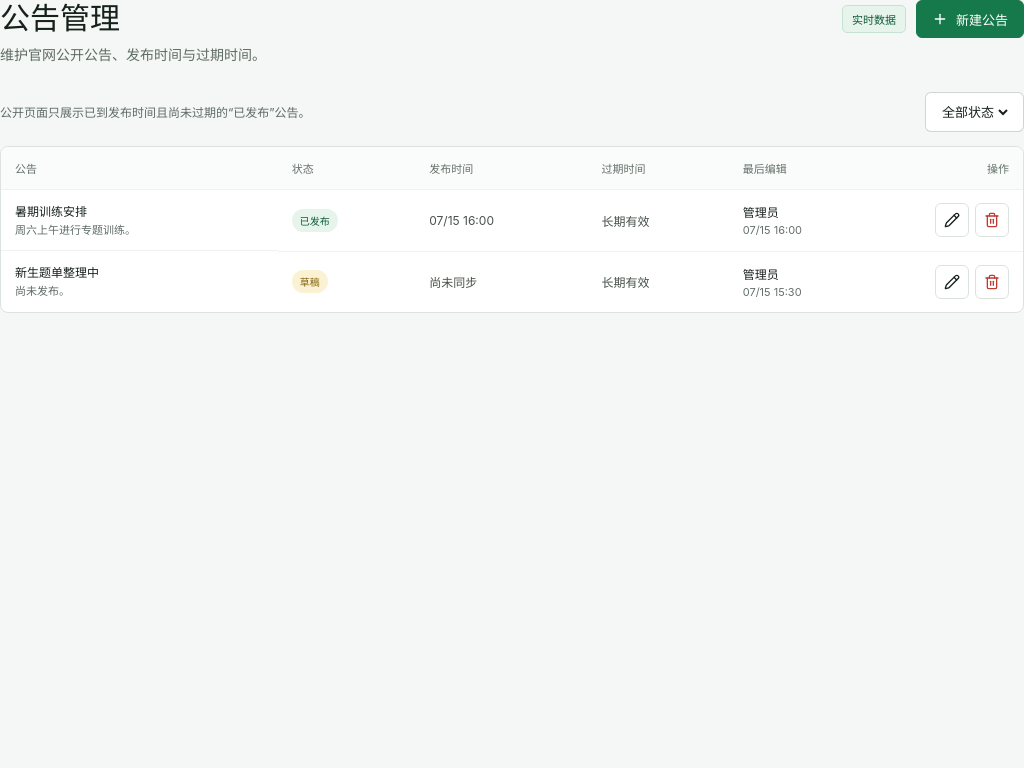
Test: AdminAnnouncementsPage with Supabase configured › confirms deletion before removing an announcement
Check: the row "暑期训练安排 周六上午进行专题训练。 已发布 07/15 16:00 长期有效 管理员 07/15 16:00" is shown, box x1=1 y1=189 x2=1023 y2=251
Click the button named "删除公告 暑期训练安排" at (992, 220), box x1=975 y1=203 x2=1009 y2=237
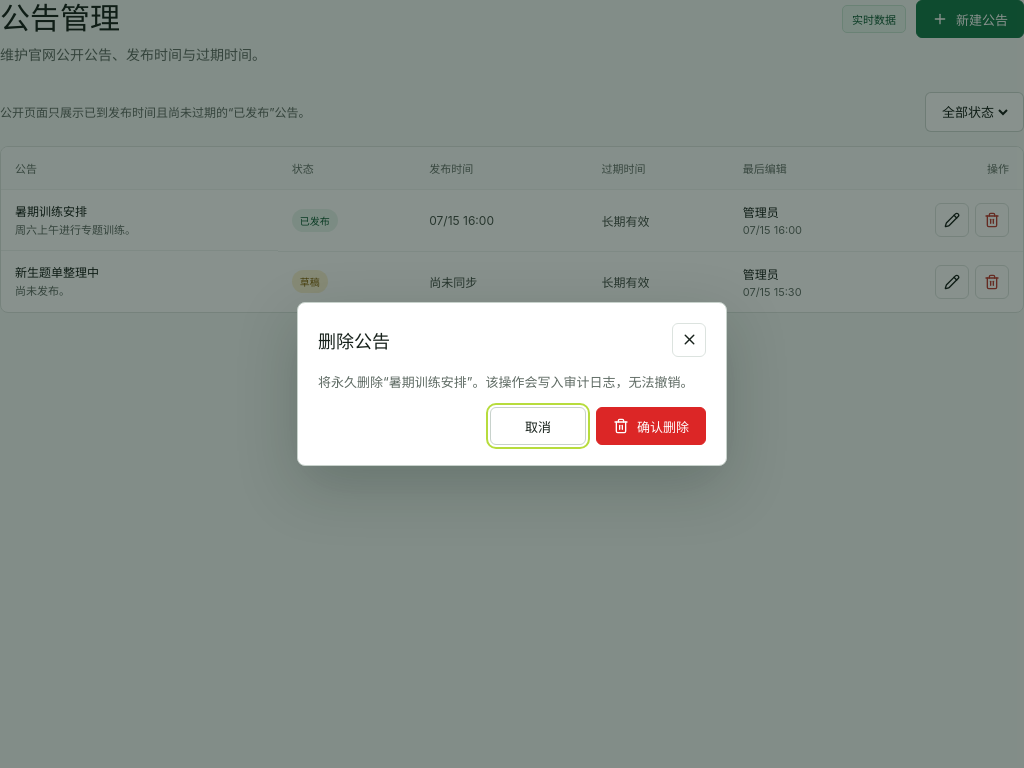
Check: the dialog "删除公告" shows "无法撤销", box x1=467 y1=374 x2=694 y2=390
Click the button "确认删除" at (651, 426), box x1=596 y1=407 x2=706 y2=445
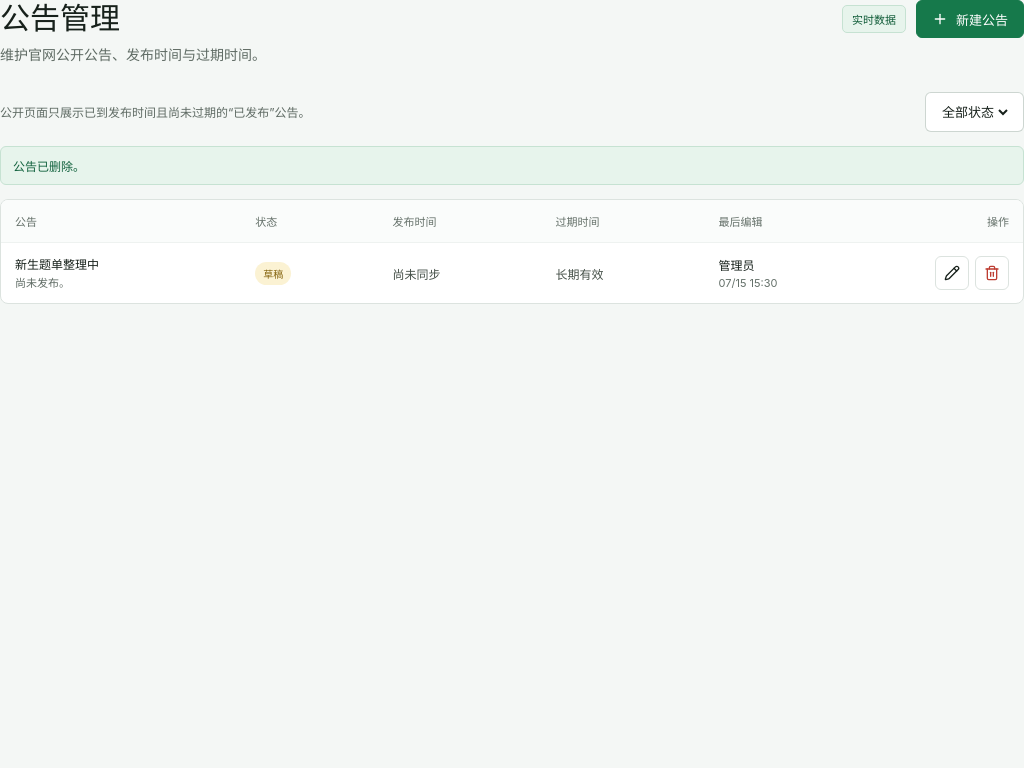
Check: the text "暑期训练安排" is gone
